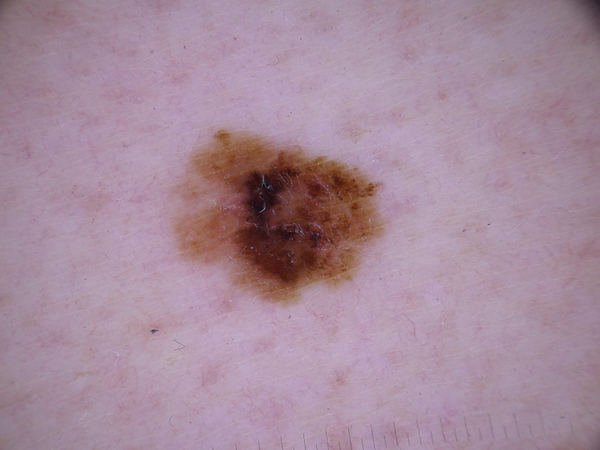Detected Lesion: (171, 126, 393, 309)
